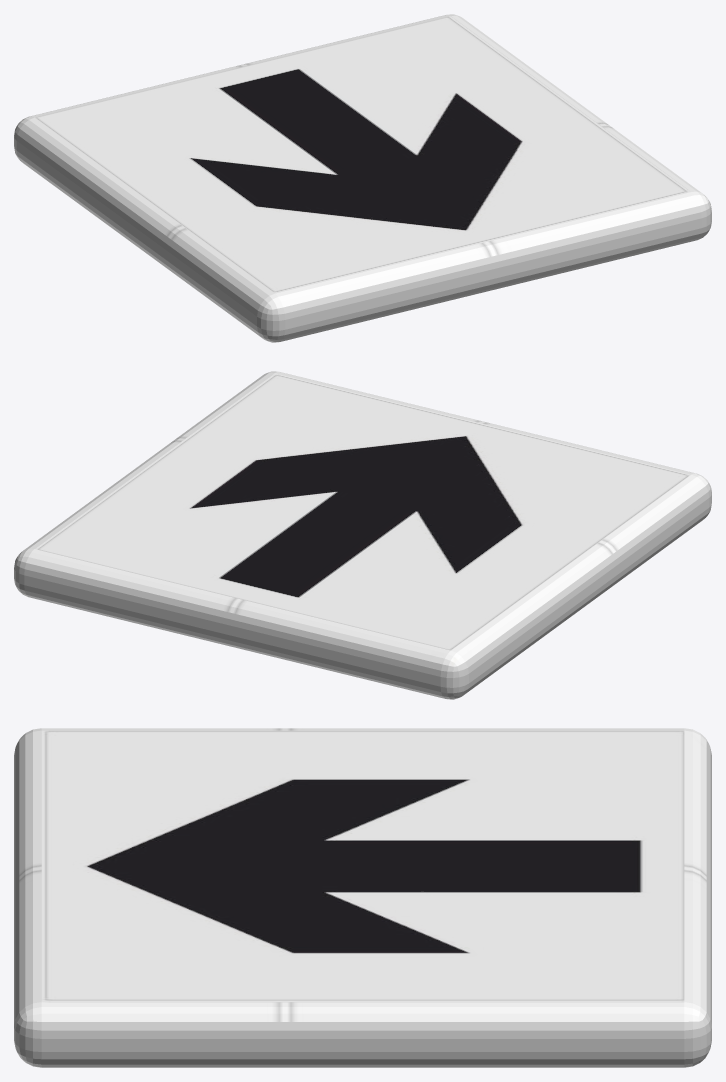
File: bouton.fbx
The picture shows the model from 3 angles, top to bottom: view 1: azimuth 30°, elevation 25°; view 2: azimuth 150°, elevation 25°; view 3: azimuth 270°, elevation 25°; orthographic projection. The views are drawn at different scales.
Visible parts, largest first — view 1: Cube; view 2: Cube; view 3: Cube.
Boxes of the visible parts, box(x1,y1,x2,y2) form: Cube: box(14, 14, 711, 342); Cube: box(14, 371, 711, 699); Cube: box(14, 728, 711, 1067).
Size of the model in its own units: 200 by 20 by 200.
